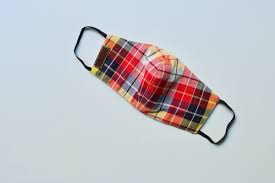FaceMask: (91, 35, 219, 133)
